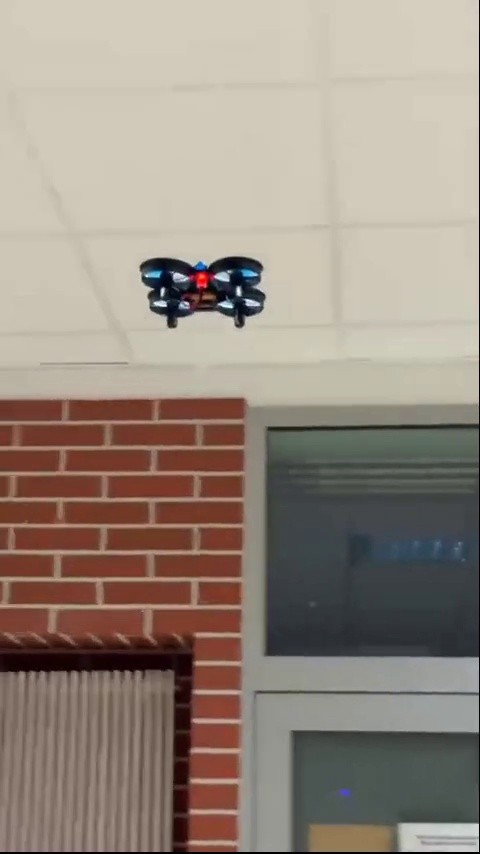drone: (136, 253, 275, 332)
